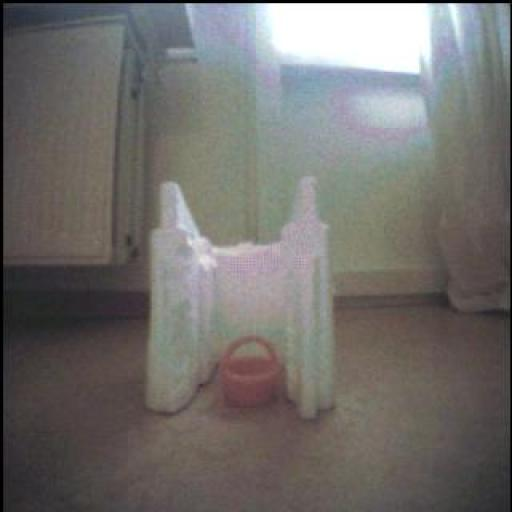Basket: (222, 336, 283, 408)
